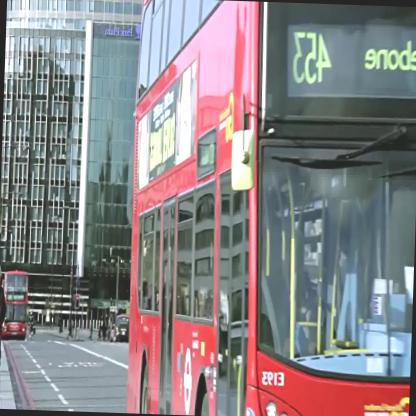bus: (3, 270, 28, 340)
car: (113, 314, 129, 342)
